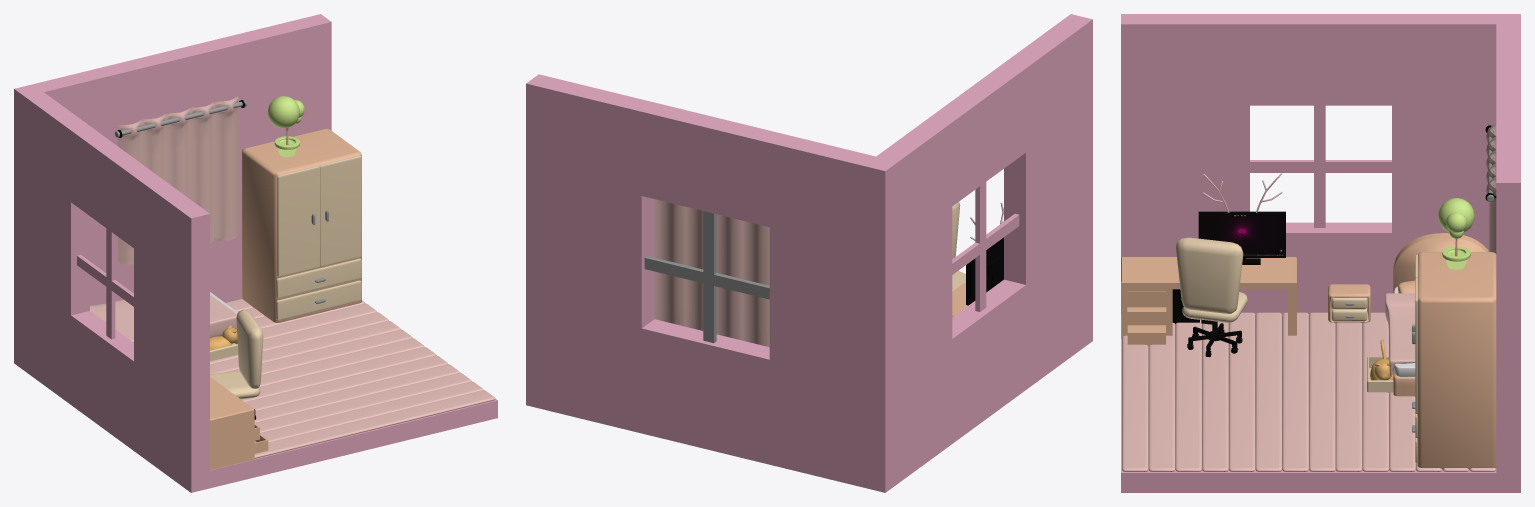
The model's file is room.gltf.
3 renders of one model, left to right at view 1: azimuth 30°, elevation 25°; view 2: azimuth 150°, elevation 25°; view 3: azimuth 270°, elevation 25°, orthographic. The views are drawn at different scales.
Visible parts, largest first — view 1: Tobiroom; view 2: Tobiroom; view 3: Tobiroom.
Boxes of the visible parts, bbox=[...] form: Tobiroom: bbox=[14, 14, 497, 492]; Tobiroom: bbox=[526, 14, 1092, 492]; Tobiroom: bbox=[1121, 14, 1520, 492].
Bounding box in the file's own units: 5 × 4.28 × 5.
10 materials, 1 textured.
